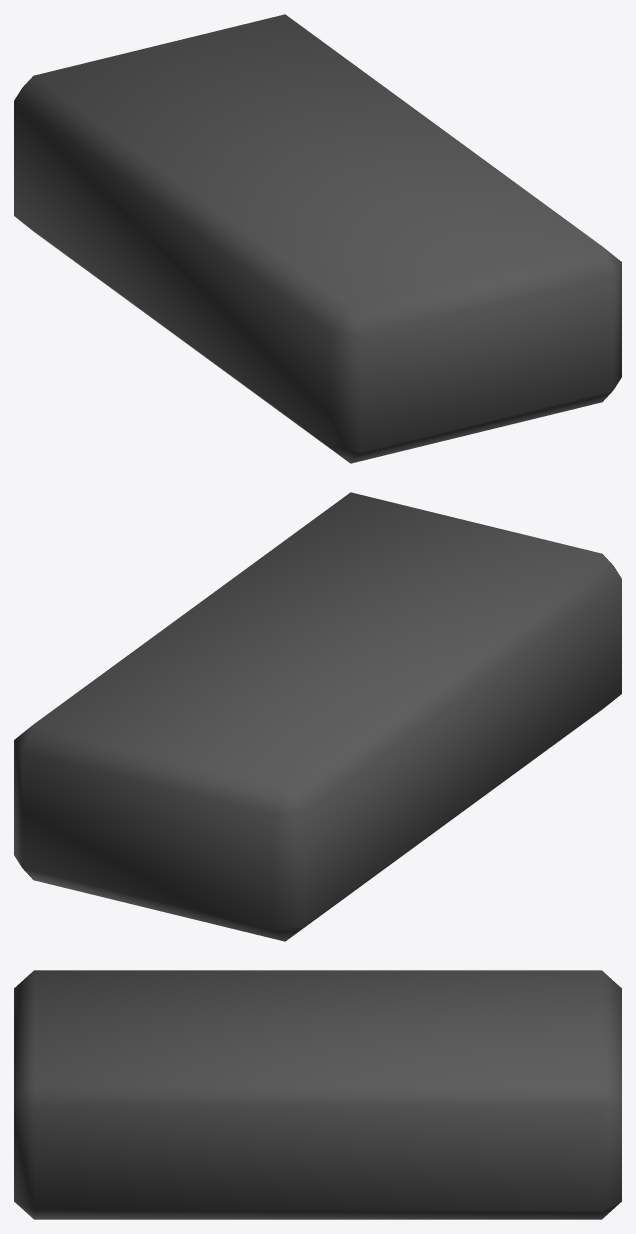
The model's file is Podest_2_2.glb.
3 renders of one model, top to bottom at view 1: azimuth 30°, elevation 25°; view 2: azimuth 150°, elevation 25°; view 3: azimuth 270°, elevation 25°, orthographic. The views are drawn at different scales.
Visible parts, largest first — view 1: Podest_2_2; view 2: Podest_2_2; view 3: Podest_2_2.
Boxes of the visible parts, x1=… form: Podest_2_2: x1=14, y1=14, x2=621, y2=463; Podest_2_2: x1=14, y1=492, x2=621, y2=941; Podest_2_2: x1=14, y1=970, x2=621, y2=1219.
Size of the model in its own units: 0.3788 by 0.1939 by 0.7665.
1 material, 1 textured.
